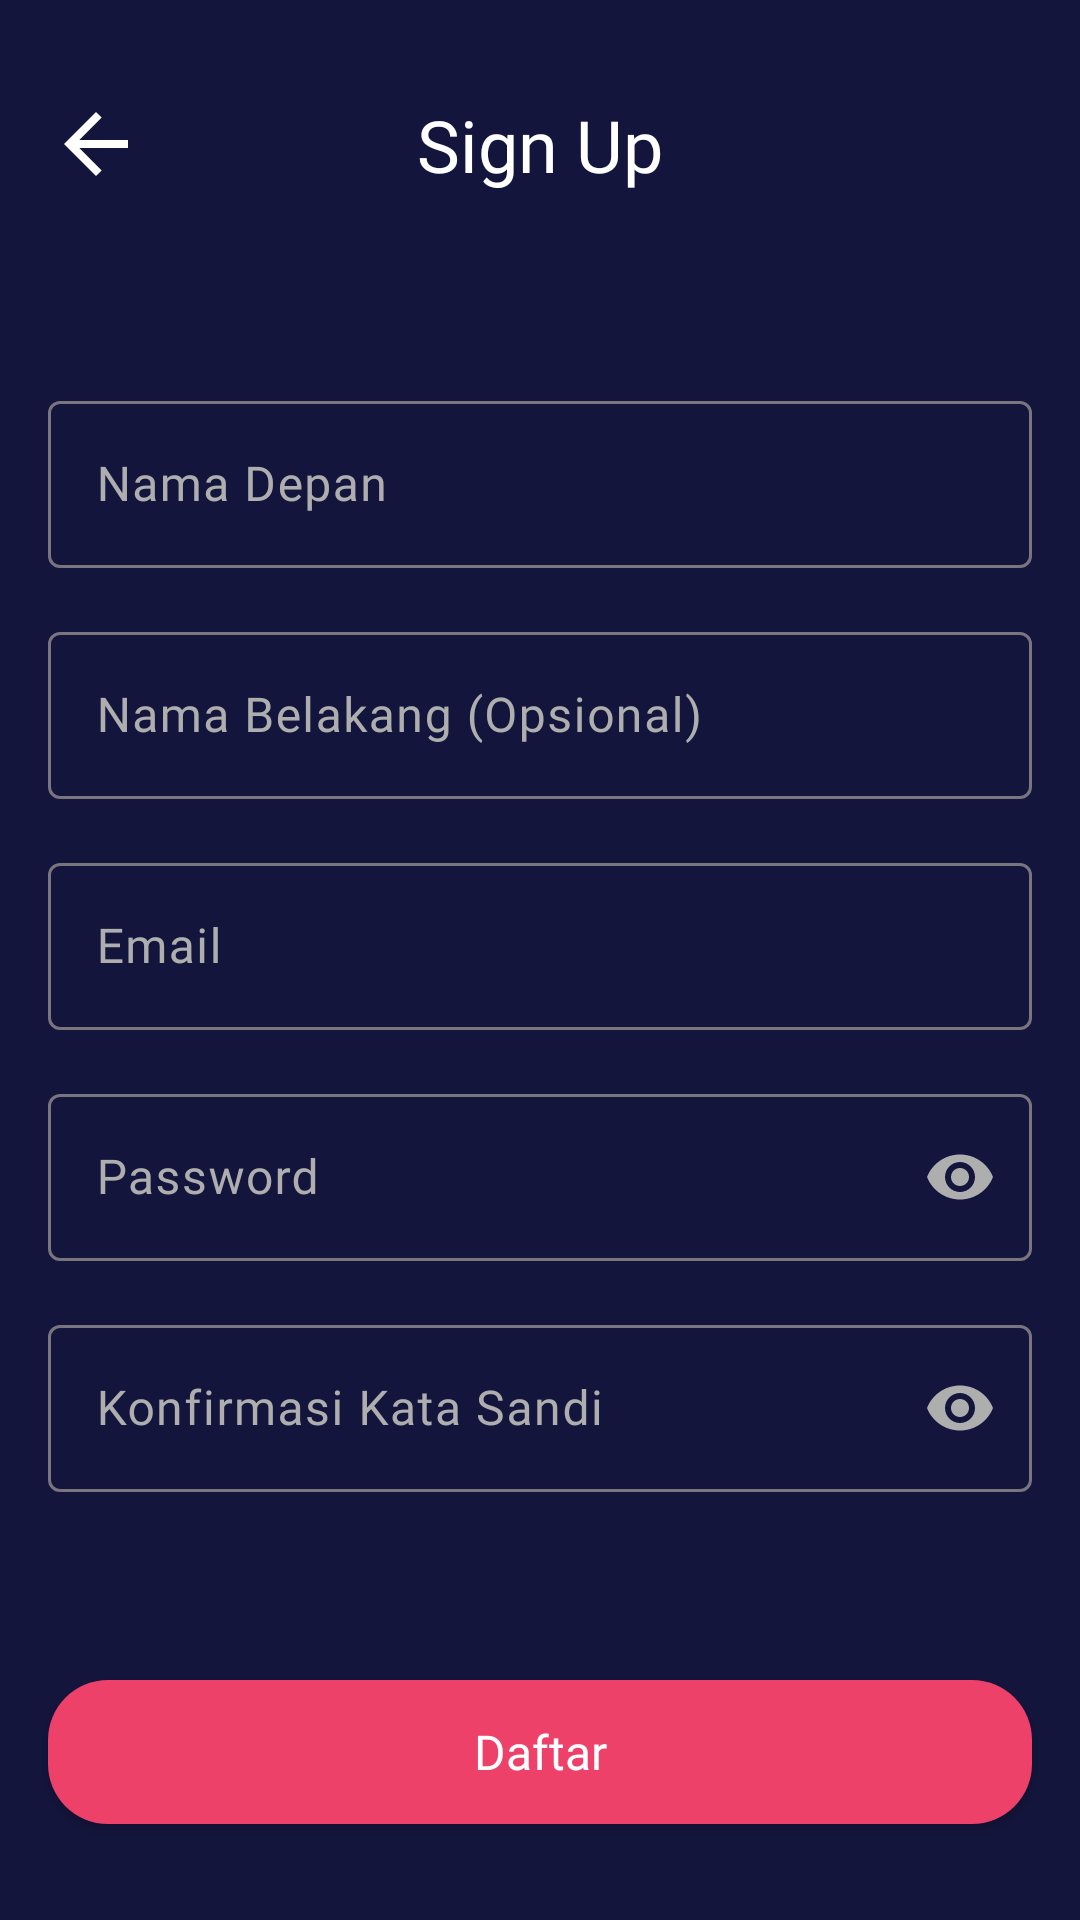

Icons on this 1080 x 1920 Android screen, each with its box as (x1, y1, x2, y2):
arrow back: (64, 112, 128, 176)
